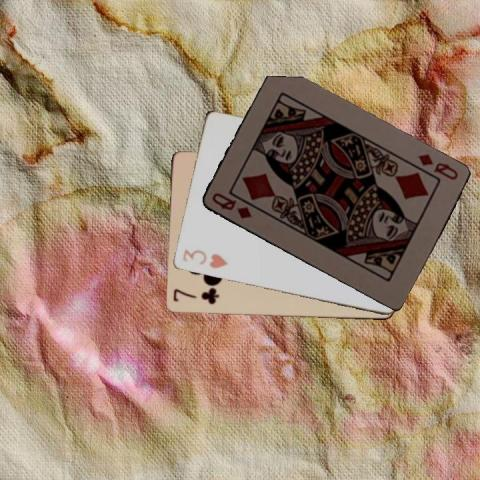3h: (179, 247, 229, 270)
7c: (170, 287, 220, 306)
Qd: (208, 189, 253, 221), (414, 151, 459, 181)
